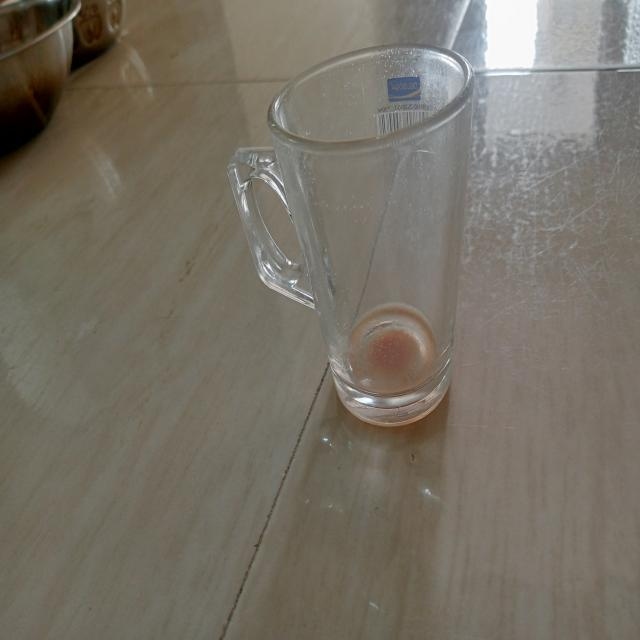glass-VX4N: (223, 29, 477, 436)
